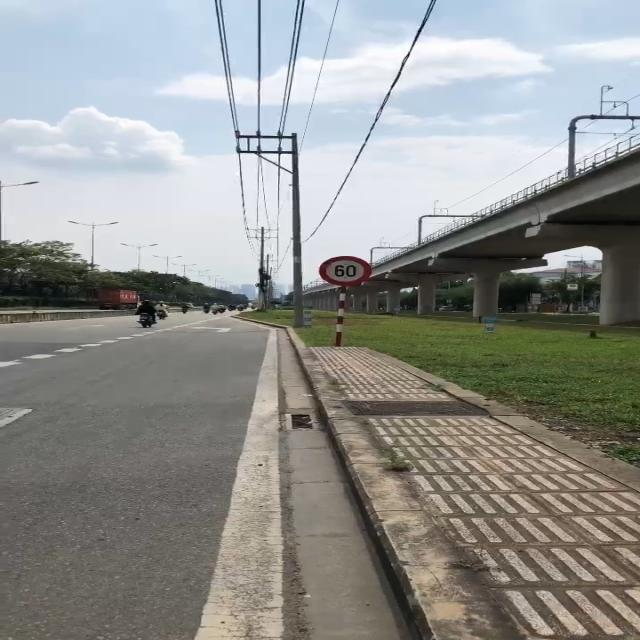Bien bao toc do toi da cho phep: (313, 255, 378, 288)
